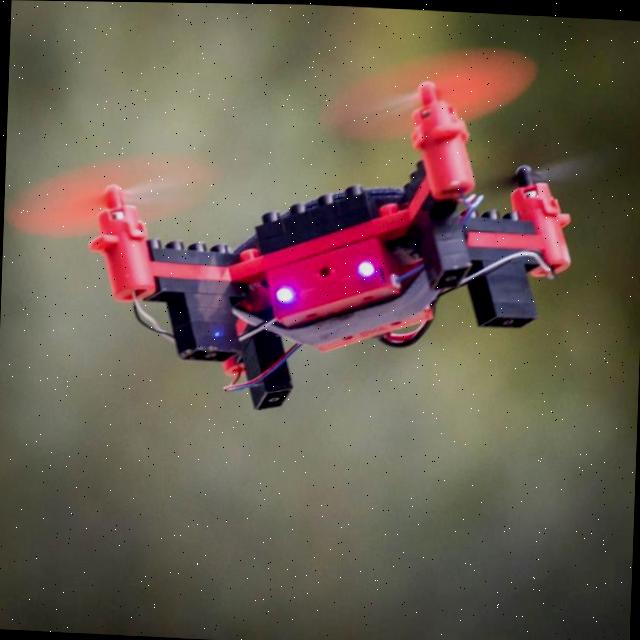drone: (35, 37, 640, 362)
